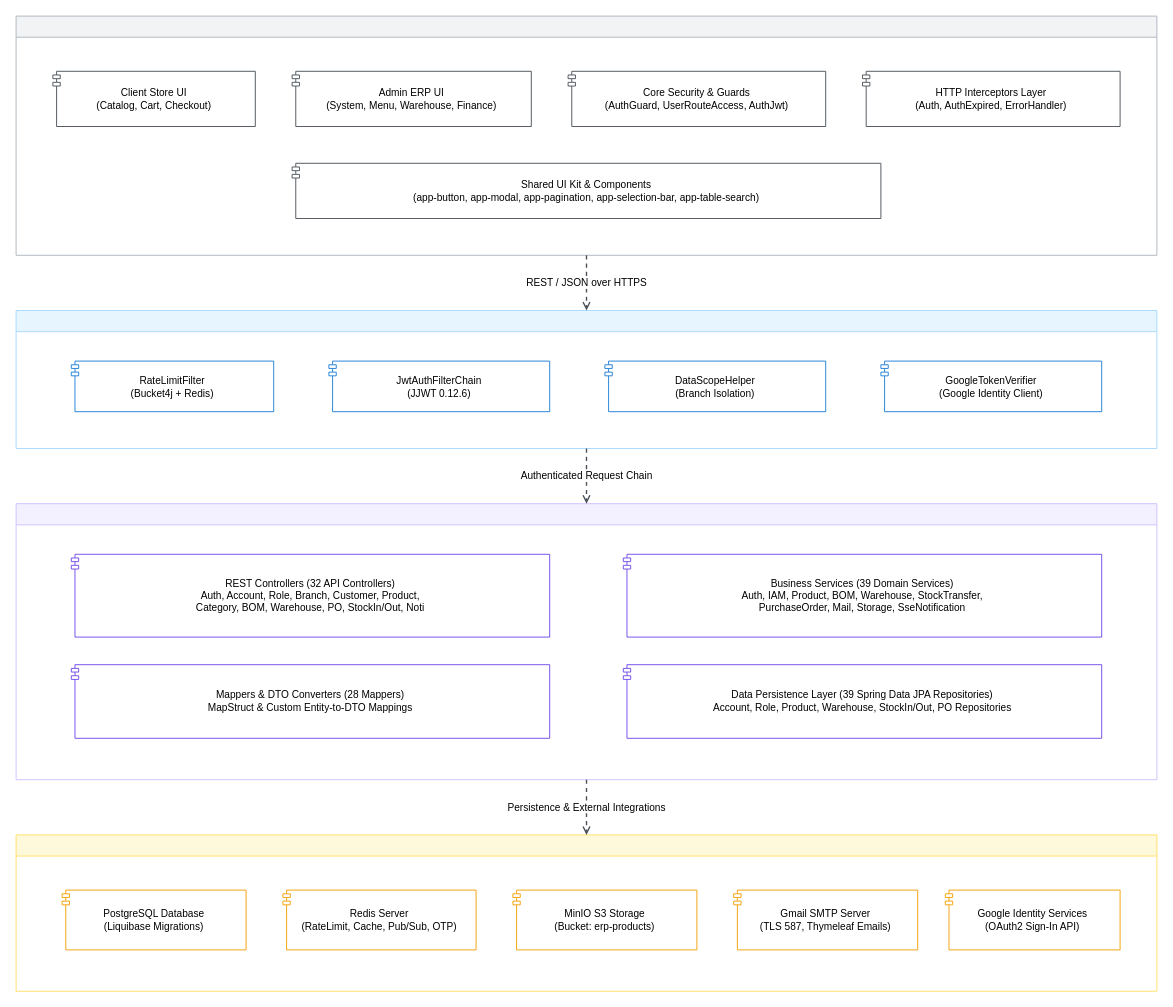
Image size: 1173x1007. Some labels were removed from this diagram. The box of each missing label's shape, as (x1, y1, x2, y2) in pixels:
Backend Application & Domain Layer: (15, 503, 1157, 780)
Backend Security & Filter Chain (Spring Boot 4): (15, 310, 1157, 448)
Frontend Client Tier (Angular 19 Standalone SPA): (15, 15, 1157, 255)
Infrastructure & External Services: (15, 834, 1157, 991)
